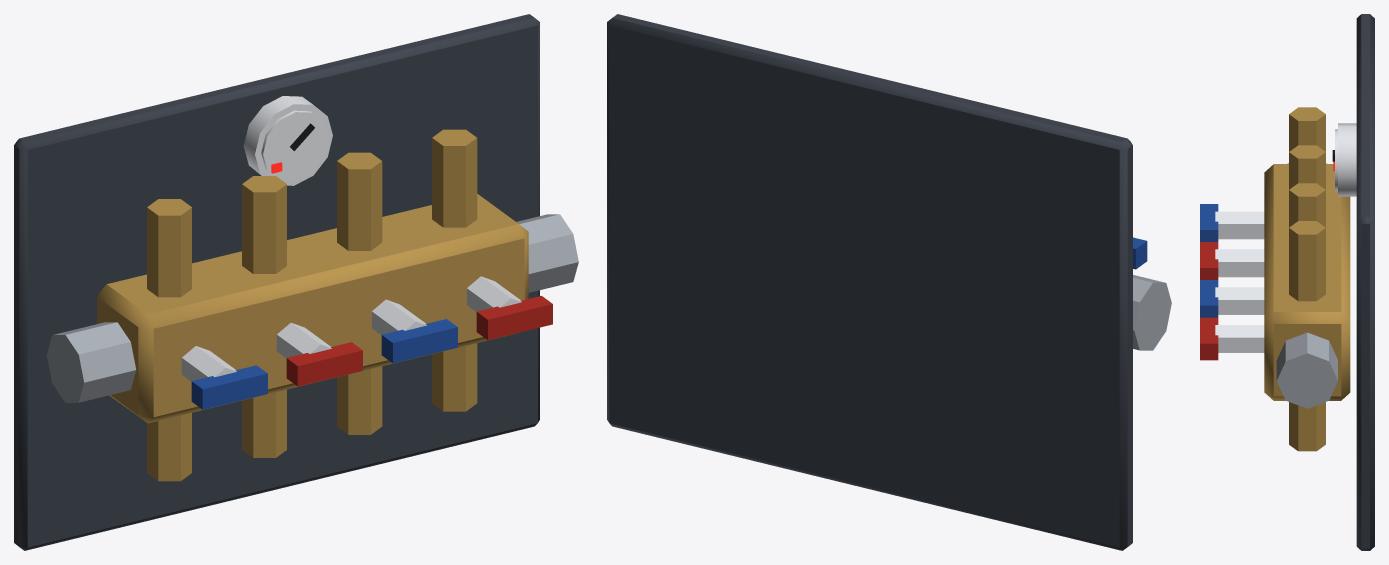
File: valve_manifold_valve_block.glb
3 renders of one model, left to right at view 1: azimuth 30°, elevation 25°; view 2: azimuth 150°, elevation 25°; view 3: azimuth 270°, elevation 25°, orthographic. The views are drawn at different scales.
Parts seen in each view (by area): view 1: valve_manifold_valve_block; view 2: valve_manifold_valve_block; view 3: valve_manifold_valve_block.
Part boxes in pixels (left/top/right/bottom): valve_manifold_valve_block: left=14, top=14, right=578, bottom=550; valve_manifold_valve_block: left=607, top=14, right=1171, bottom=550; valve_manifold_valve_block: left=1200, top=14, right=1374, bottom=550.
Size of the model in its own units: 0.8 by 0.6 by 0.285.
